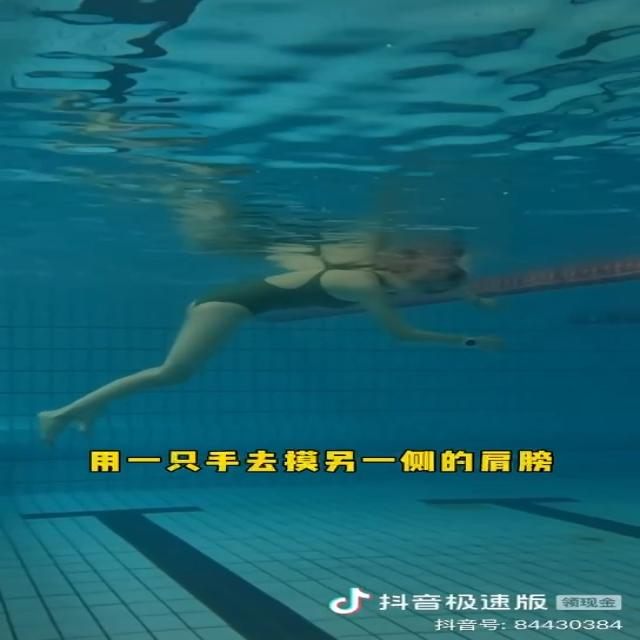Drowning: (42, 260, 504, 440)
